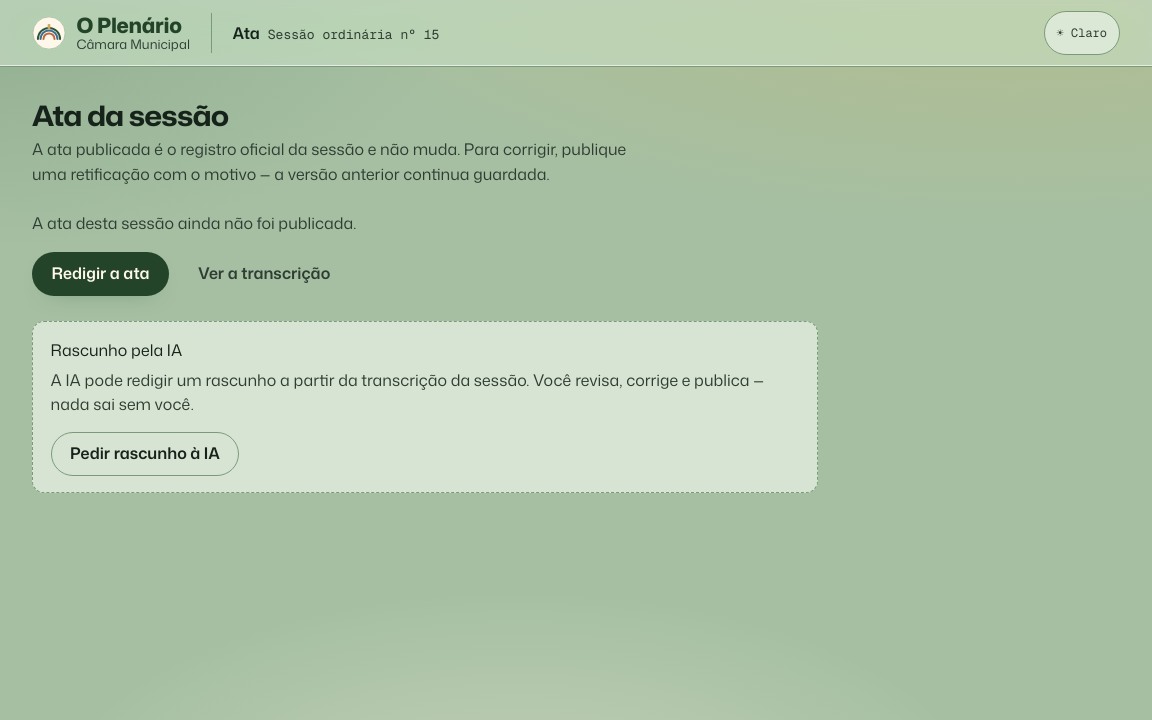
Test: PaginaAta › sem ata: redige, revisa e publica em dois passos; depois mostra a versão congelada
Click the button "Redigir a ata" at (100, 274), box left=32, top=252, right=169, bottom=296
(page scrolled)
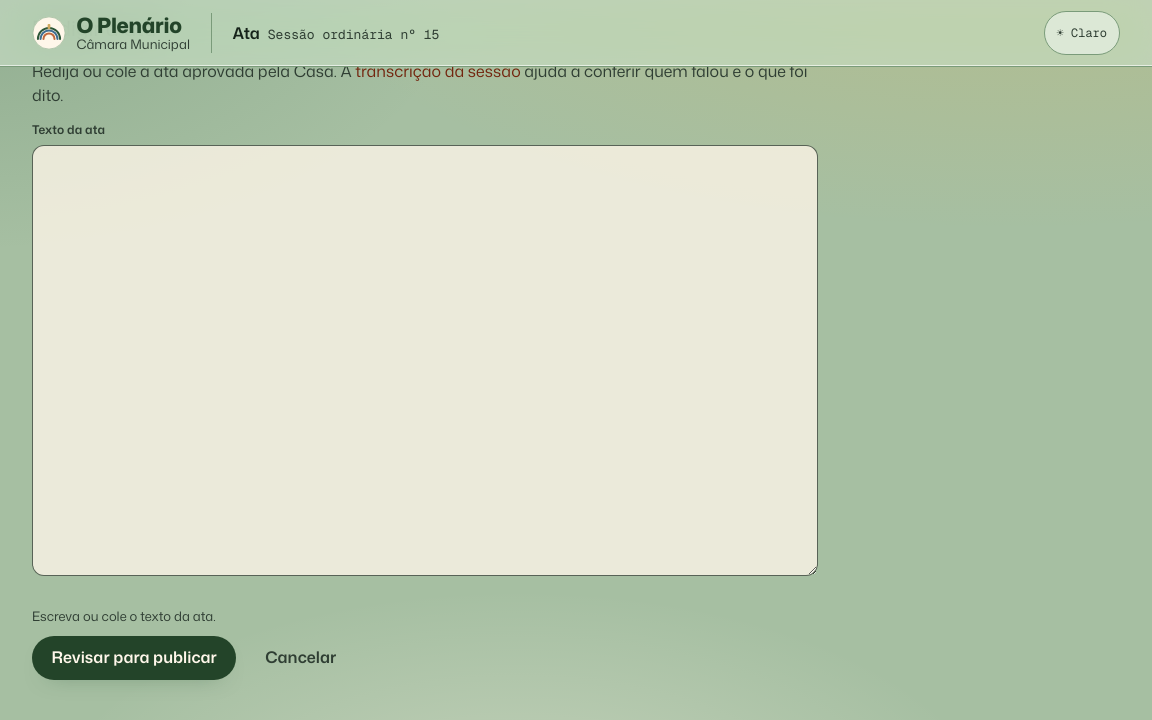
Result: the button "Revisar para publicar" is disabled at left=32, top=636, right=236, bottom=680
Result: the text "Escreva ou cole o texto da ata." is shown at left=32, top=607, right=216, bottom=625
Type "Aos vinte e seis dias..." into the text box labelled "Texto da ata" at (425, 360), box left=32, top=145, right=818, bottom=576
(page scrolled)
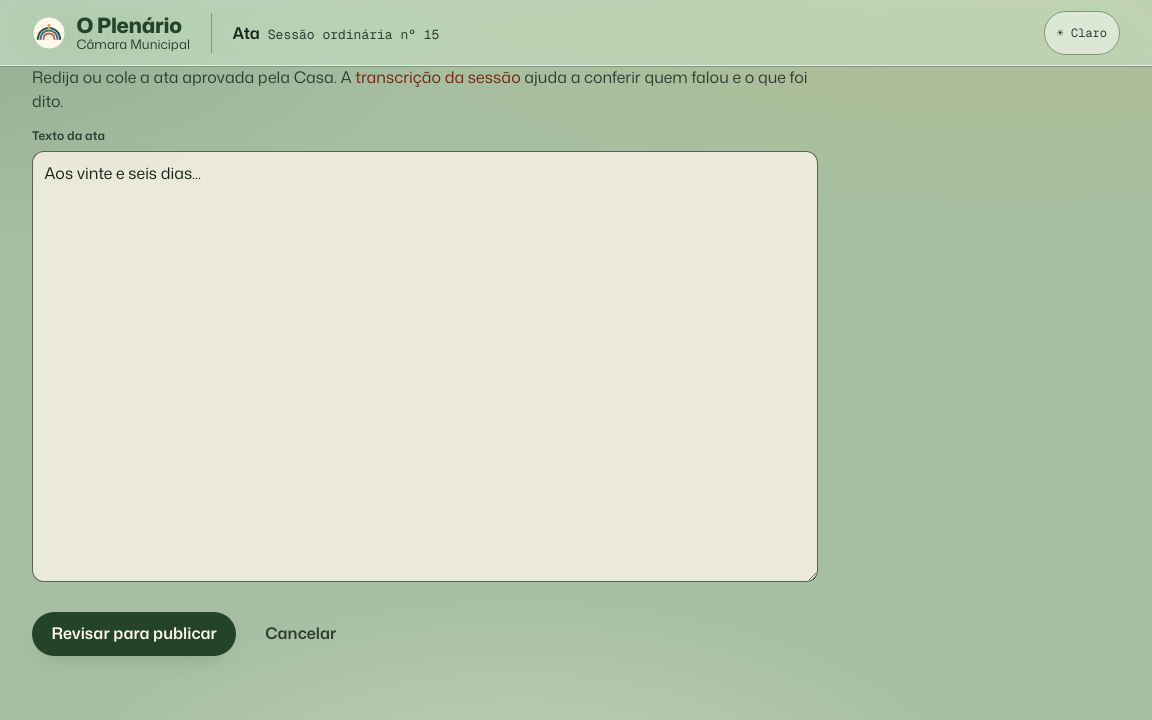
Click the button "Revisar para publicar" at (134, 634), box left=32, top=612, right=236, bottom=656
(page scrolled)
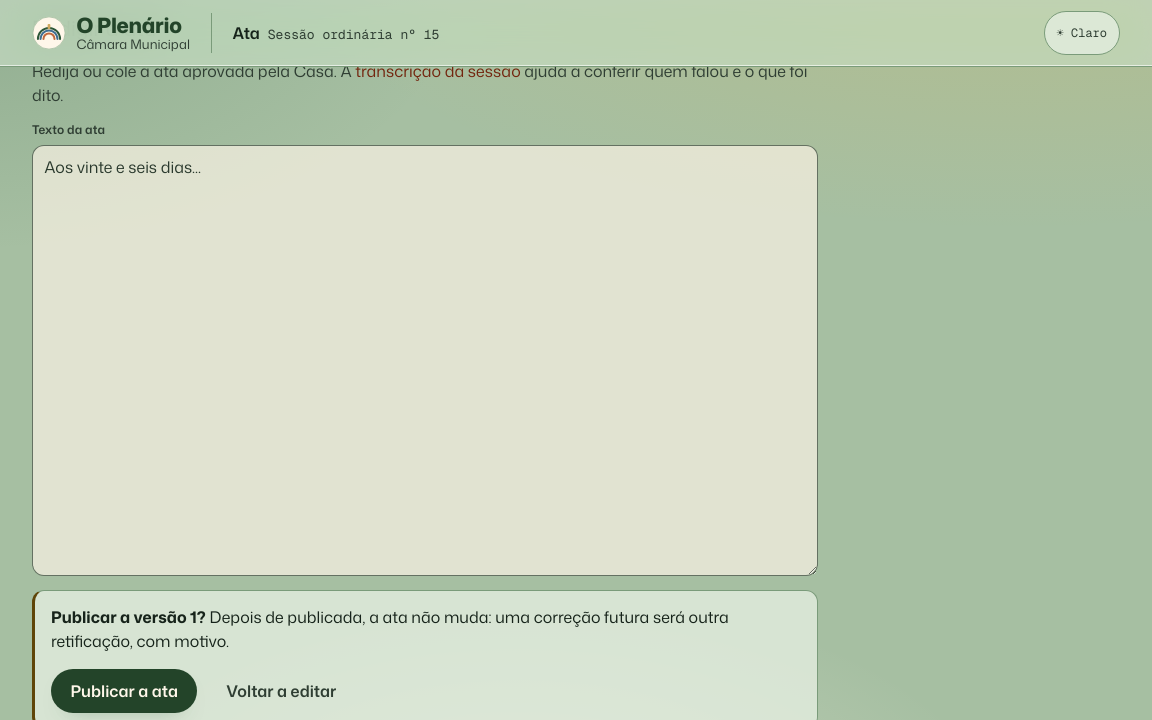
Result: the text "Publicar a versão 1?" is shown at left=51, top=606, right=206, bottom=628
Click the button "Publicar a ata" at (124, 691), box left=51, top=669, right=197, bottom=713
(page scrolled)
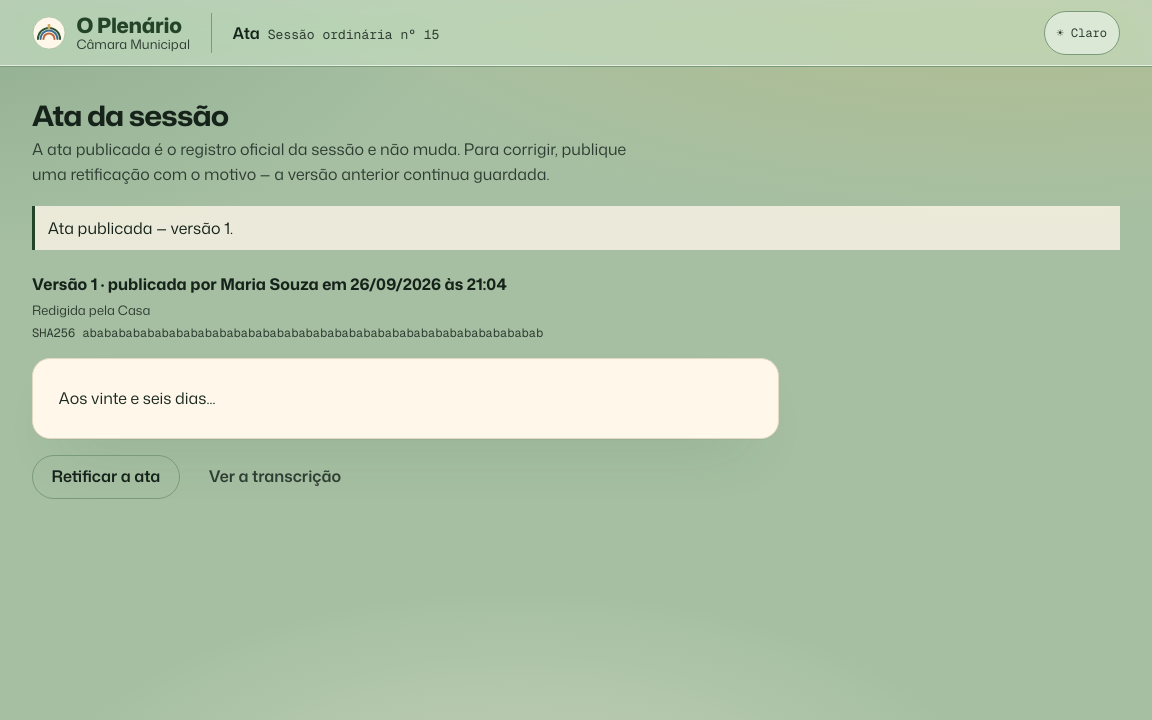
Result: the text "Aos vinte e seis dias..." is shown at left=32, top=358, right=779, bottom=439
Result: the text "Versão 1 · publicada por Maria Souza em 26/09/2026 às 21:04" is shown at left=32, top=273, right=507, bottom=295
Result: the text "Redigida pela Casa" is shown at left=32, top=301, right=150, bottom=319
